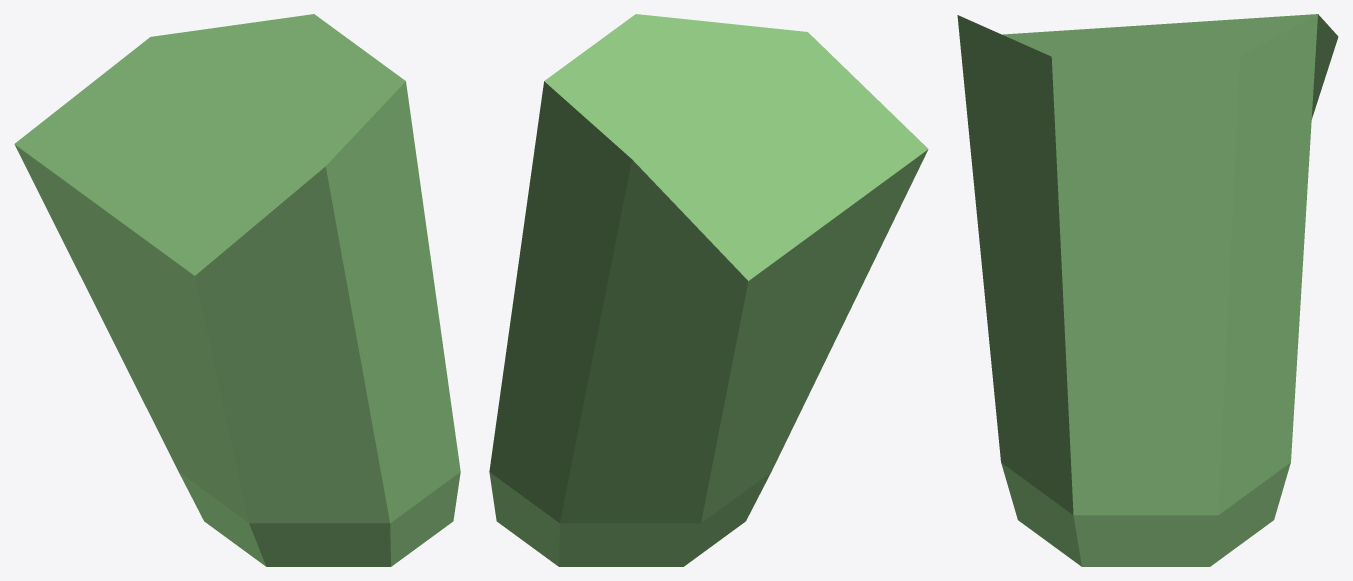
Rendered from LeftLegTop.fbx.
3 views of the same model, side by side, from view 1: azimuth 30°, elevation 25°; view 2: azimuth 150°, elevation 25°; view 3: azimuth 270°, elevation 25° (orthographic). The views are drawn at different scales.
Visible parts, largest first — view 1: LeftLegTop; view 2: LeftLegTop; view 3: LeftLegTop.
Part boxes in pixels (bbox=[...]): LeftLegTop: bbox=[14, 14, 460, 566]; LeftLegTop: bbox=[489, 14, 928, 566]; LeftLegTop: bbox=[957, 14, 1338, 566].
Size of the model in its own units: 29.01 by 40.69 by 29.34.
